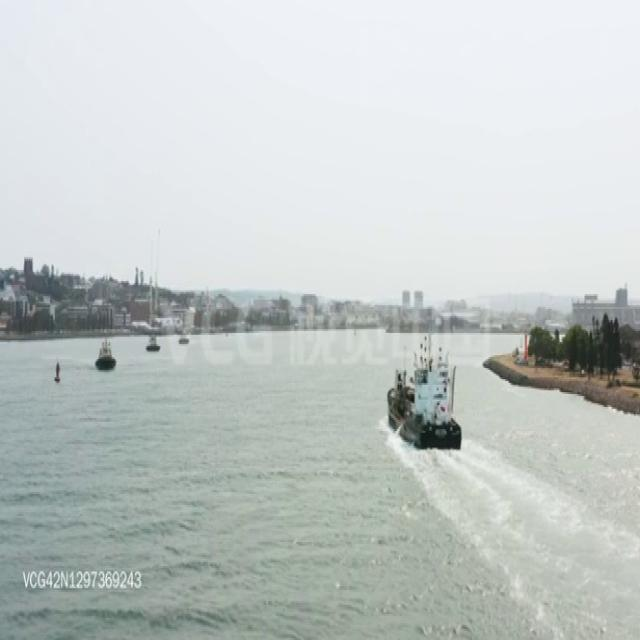houseboat: (386, 319, 463, 452), (94, 338, 116, 370), (146, 332, 160, 354), (176, 324, 189, 345)
